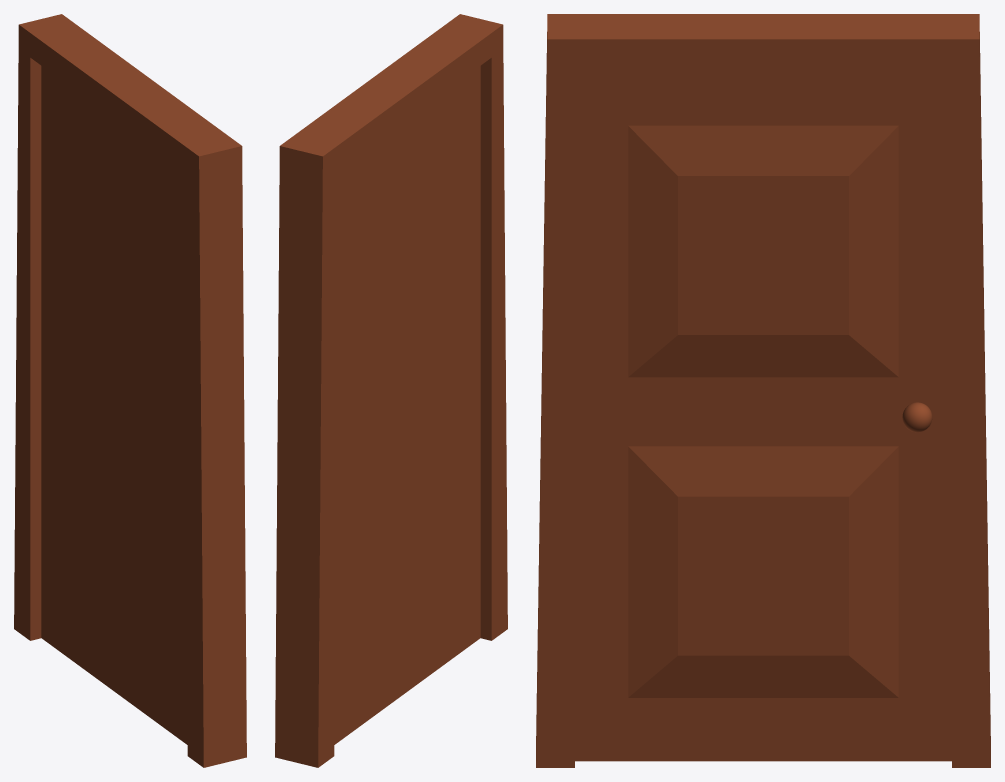
File: gapı.fbx
3 renders of one model, left to right at view 1: azimuth 30°, elevation 25°; view 2: azimuth 150°, elevation 25°; view 3: azimuth 270°, elevation 25°, orthographic. The views are drawn at different scales.
Visible parts, largest first — view 1: Plane; view 2: Plane; view 3: Plane.
Part boxes in pixels (x1,y1,x2,y2): Plane: (14,14,246,767); Plane: (275,14,507,767); Plane: (536,14,990,767).
Size of the model in its own units: 38.4 by 426 by 241.
